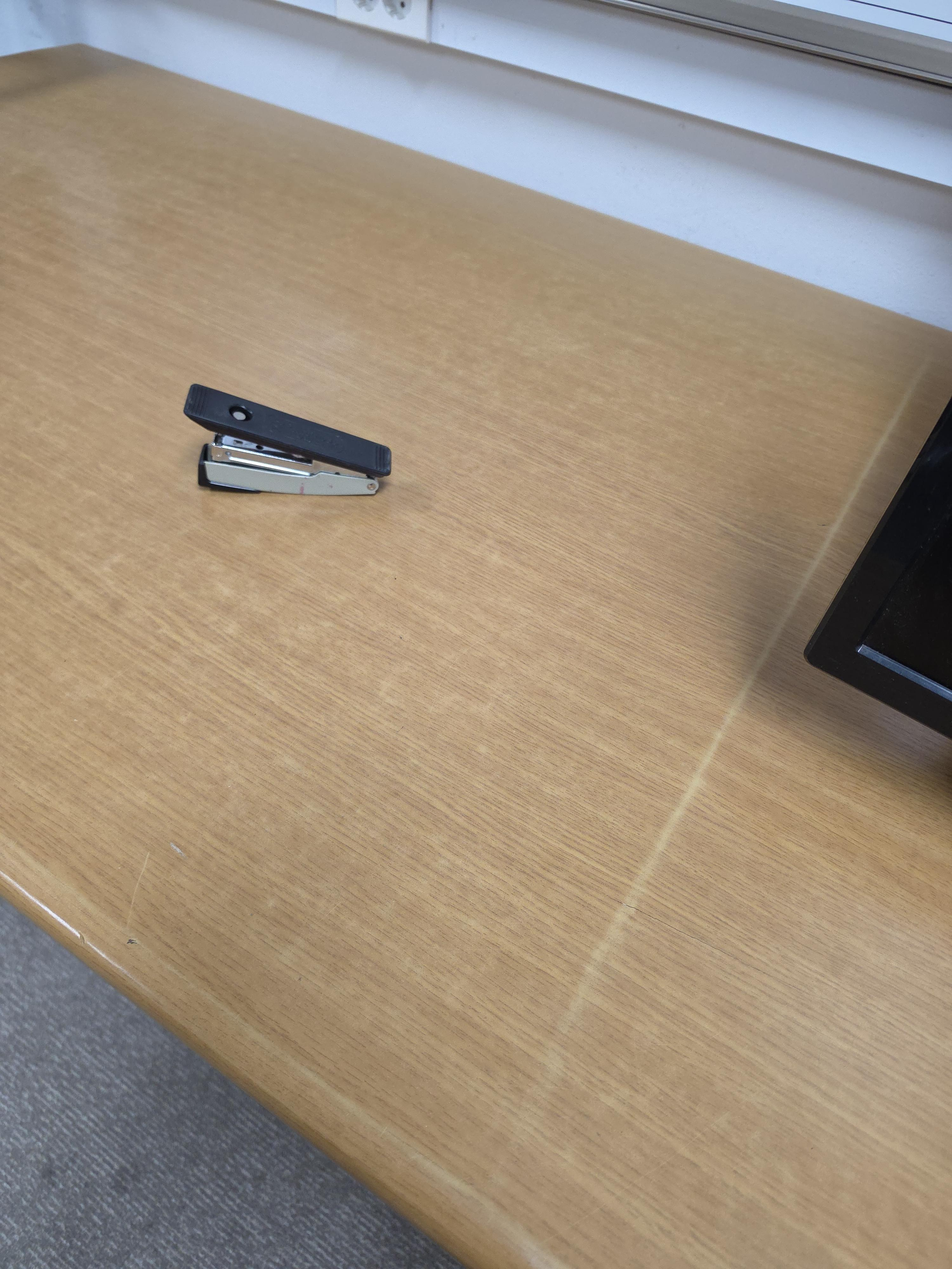stapler: (183, 384, 392, 496)
